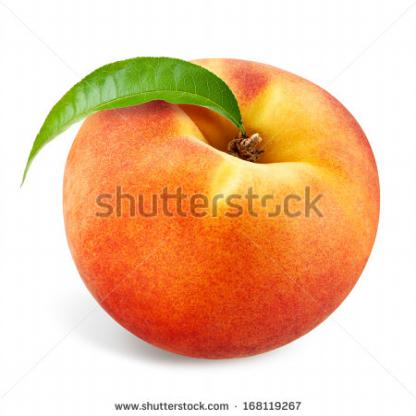Peach leaf: (15, 50, 250, 186)
